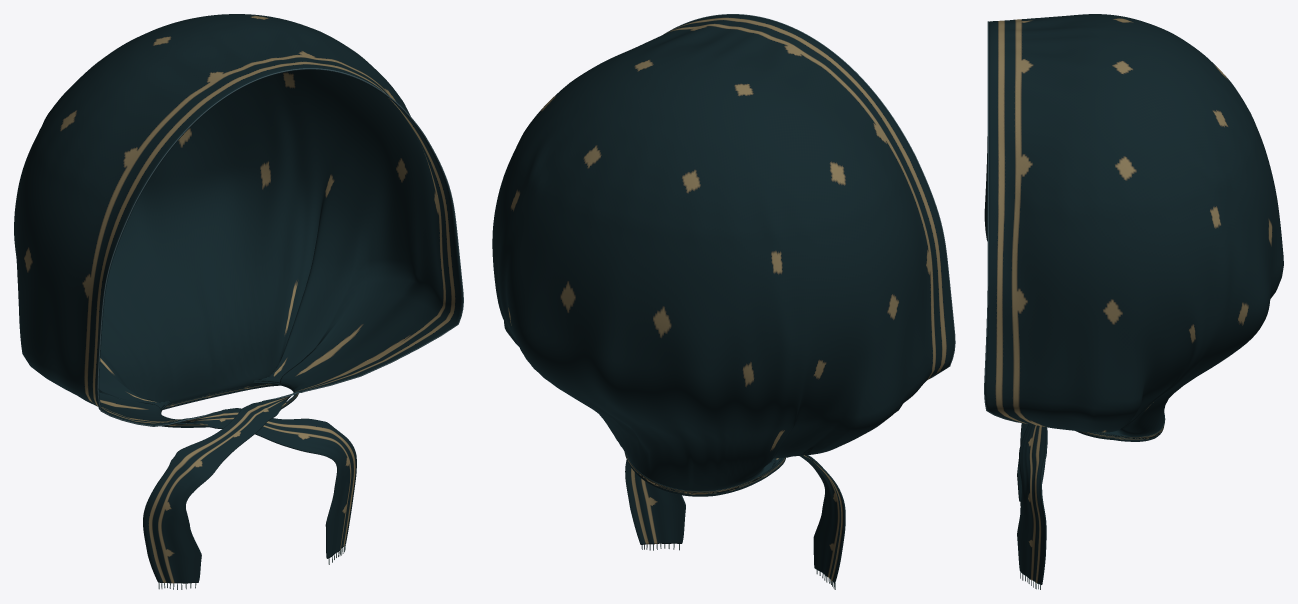
Rendered from Masculine-buzz-tank-pashmina249-headgear.glb.
3 renders of one model, left to right at view 1: azimuth 30°, elevation 25°; view 2: azimuth 150°, elevation 25°; view 3: azimuth 270°, elevation 25°, orthographic. The views are drawn at different scales.
Visible parts, largest first — view 1: 226 headgear / Headwear / continuous woven pashmina239, 226 headgear / Headwear / face edge239; view 2: 226 headgear / Headwear / continuous woven pashmina239, 226 headgear / Headwear / face edge239; view 3: 226 headgear / Headwear / continuous woven pashmina239, 226 headgear / Headwear / face edge239.
Boxes of the visible parts, <box> form: 226 headgear / Headwear / continuous woven pashmina239: <box>14,14,462,583</box>; 226 headgear / Headwear / face edge239: <box>97,68,463,426</box>; 226 headgear / Headwear / continuous woven pashmina239: <box>492,14,954,583</box>; 226 headgear / Headwear / face edge239: <box>665,14,955,378</box>; 226 headgear / Headwear / continuous woven pashmina239: <box>984,14,1283,584</box>; 226 headgear / Headwear / face edge239: <box>984,21,1021,422</box>.
Size of the model in its own units: 1.03 by 1.35 by 0.7152.
3 materials, 1 textured.
